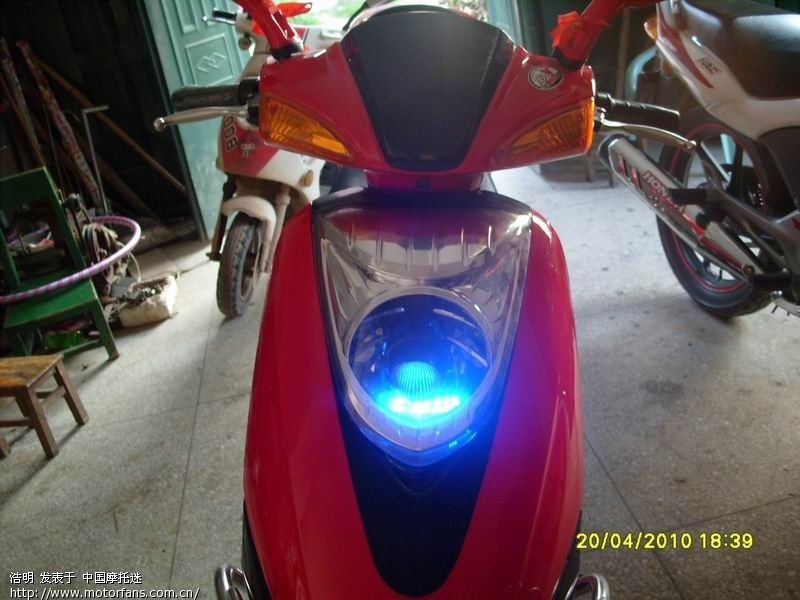non-vehicle: (176, 0, 662, 599), (602, 0, 800, 320), (197, 0, 361, 326)
